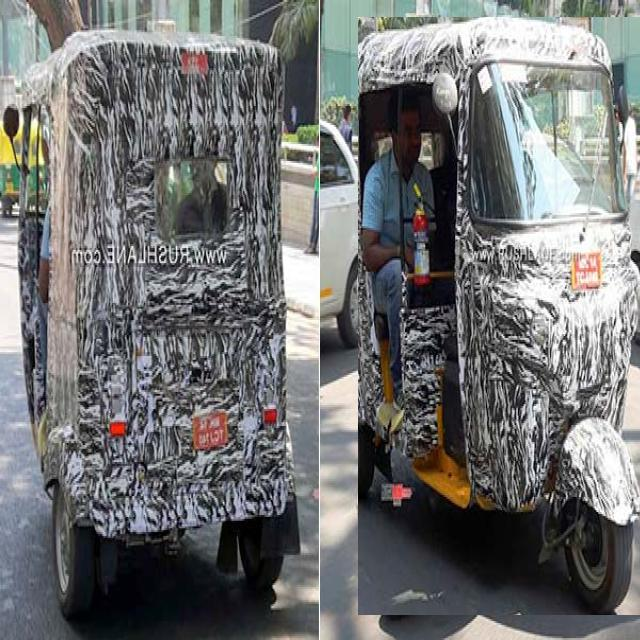autorickshaw: (358, 18, 640, 615), (19, 31, 300, 618)
